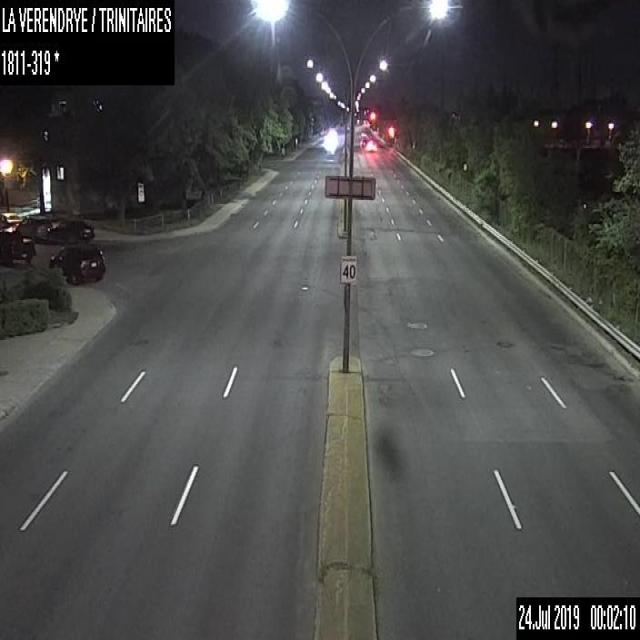vehicle: (48, 242, 105, 284), (0, 226, 35, 262), (47, 218, 94, 244), (15, 214, 52, 242), (364, 140, 376, 150), (360, 137, 368, 146)
